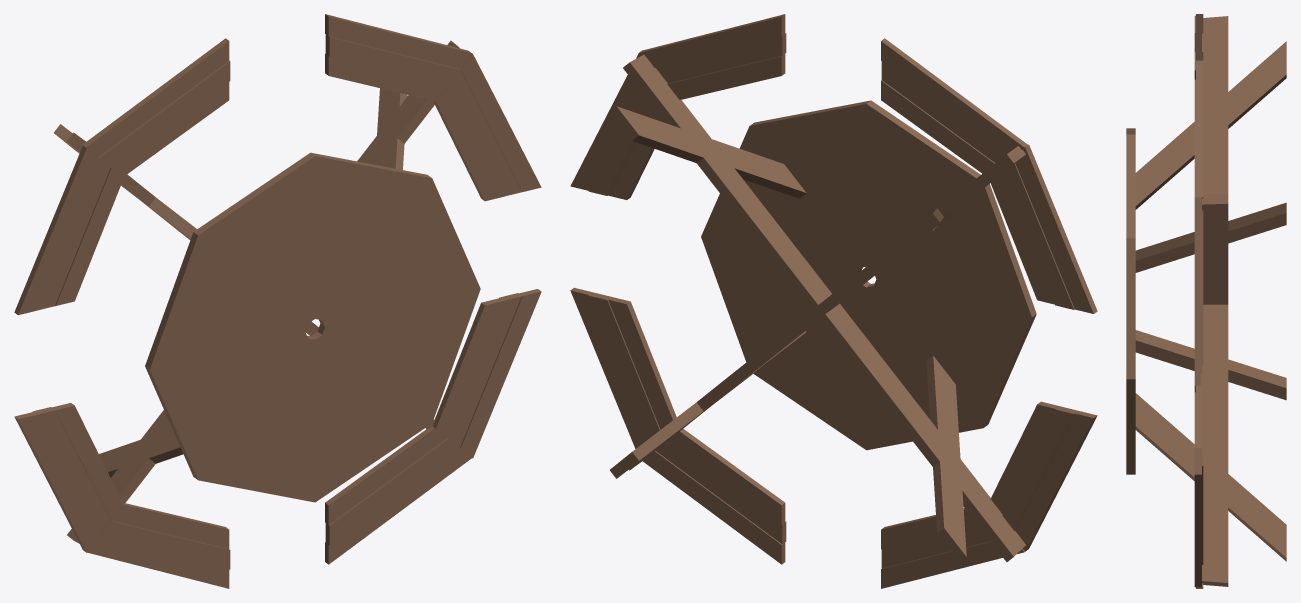
3 views of the same model, side by side, from view 1: azimuth 30°, elevation 25°; view 2: azimuth 150°, elevation 25°; view 3: azimuth 270°, elevation 25° (orthographic). The views are drawn at different scales.
Parts seen in each view (by area): view 1: Circle_0; view 2: Circle_0; view 3: Circle_0.
Boxes of the visible parts, x1,y1,x2,y2 form: Circle_0: (14, 14, 541, 588); Circle_0: (570, 14, 1097, 588); Circle_0: (1126, 14, 1286, 588).
Bounding box in the file's own units: 3.16 × 3.16 × 0.87.
Materials: 1 (1 with a texture image).
